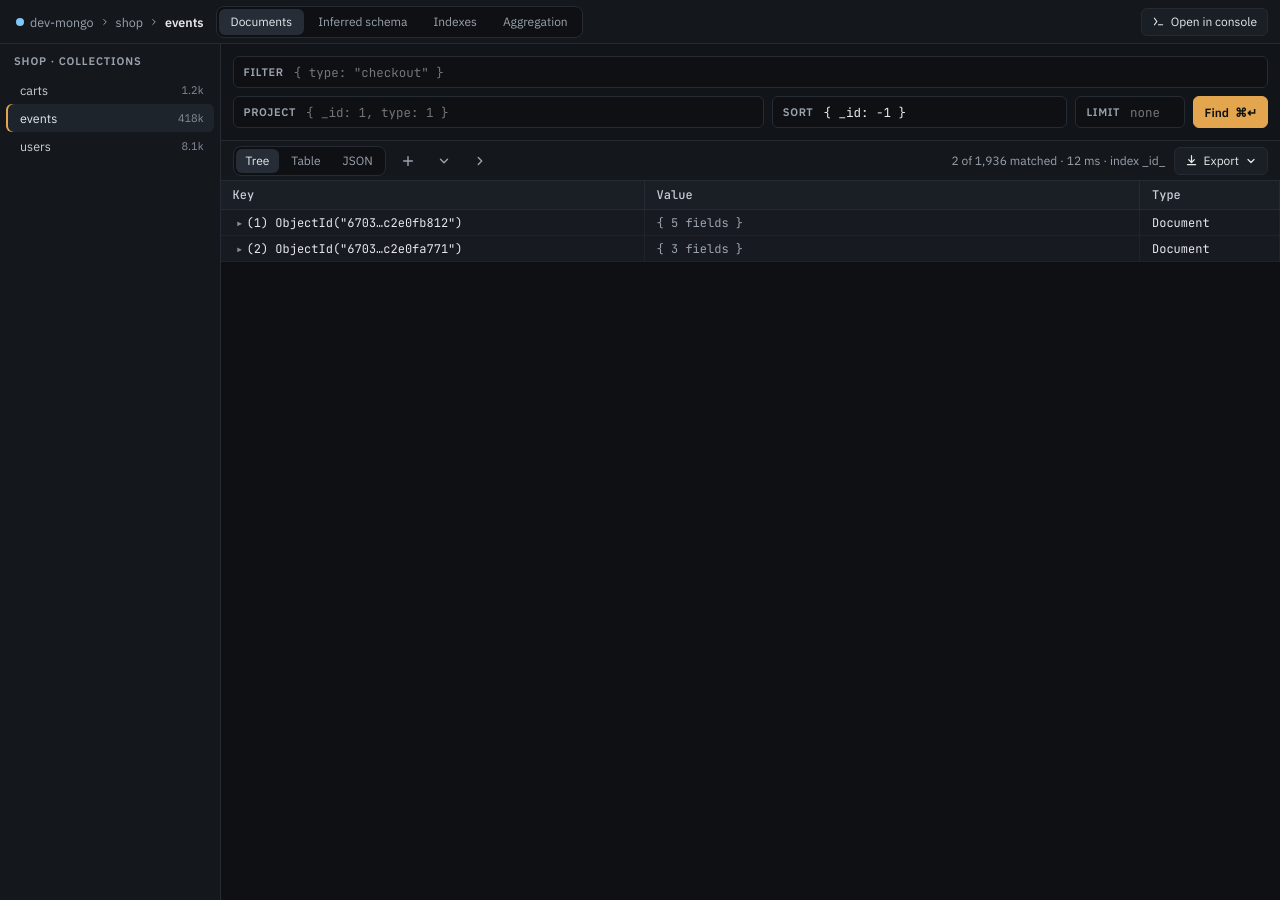
it: editing › stages an edit, marks it, and saves it with a version check
This screenshot has width=1280, height=900.
Press ArrowRight in the text "▸ (1) ObjectId(\"6703…c2e0fb812\") { 5 fields } Document", box [220, 210, 1279, 236]
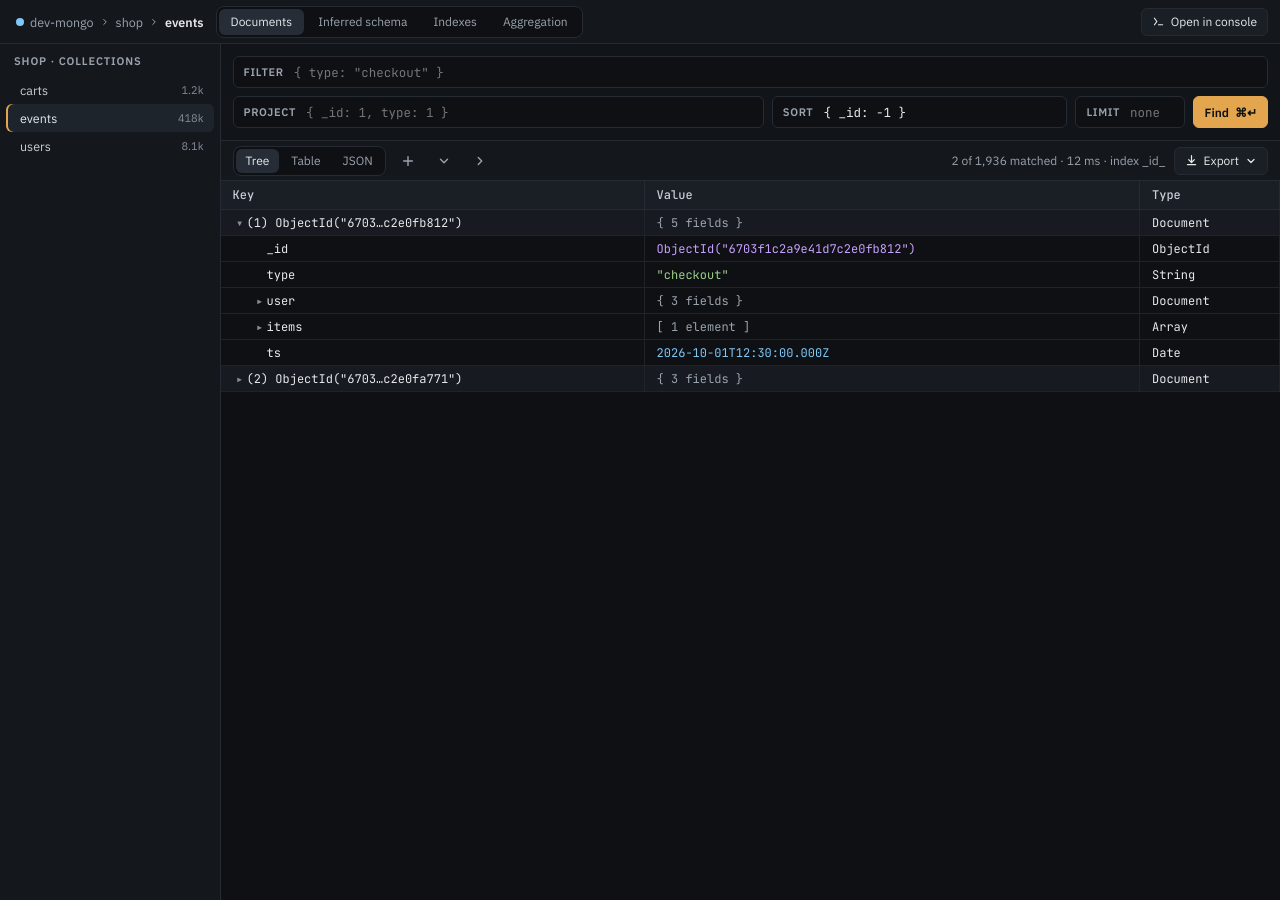
Double-click the text "\"checkout\"" at point(750, 274), box [220, 262, 1279, 288]
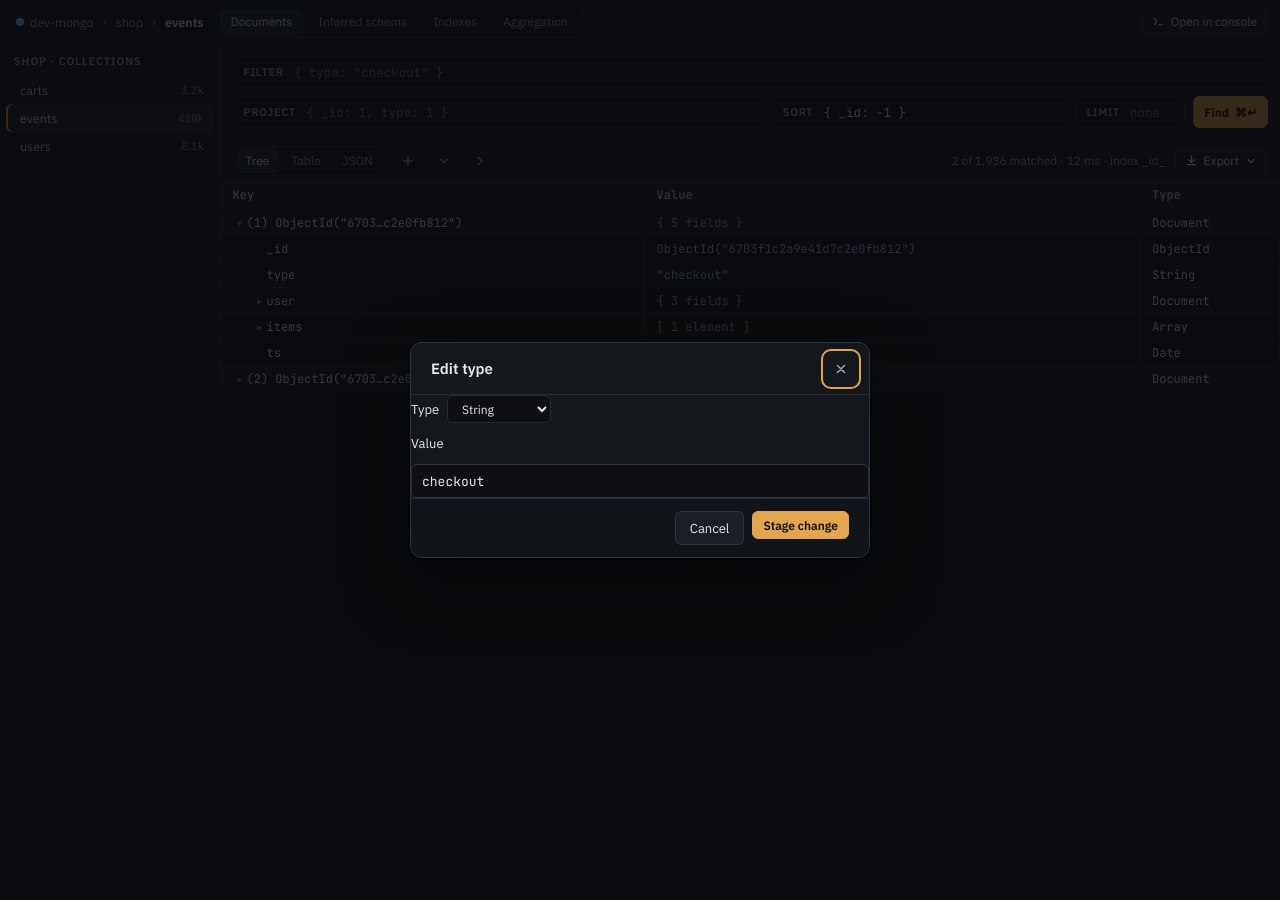
Replace the text in the field labelled "Value" with "refund" at point(640, 481), box [411, 464, 869, 498]
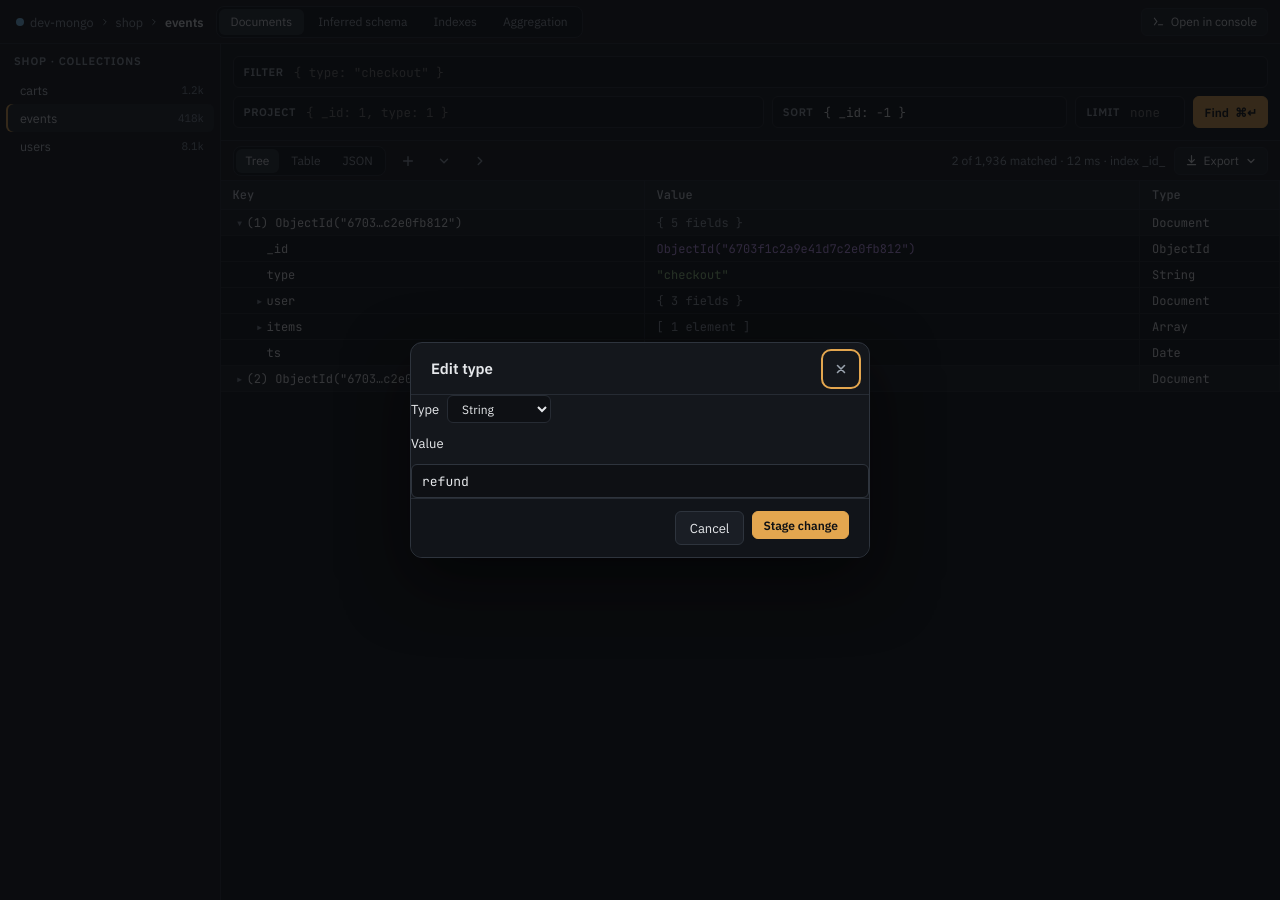
Click the button "Stage change" at point(801, 525), box [752, 511, 849, 539]
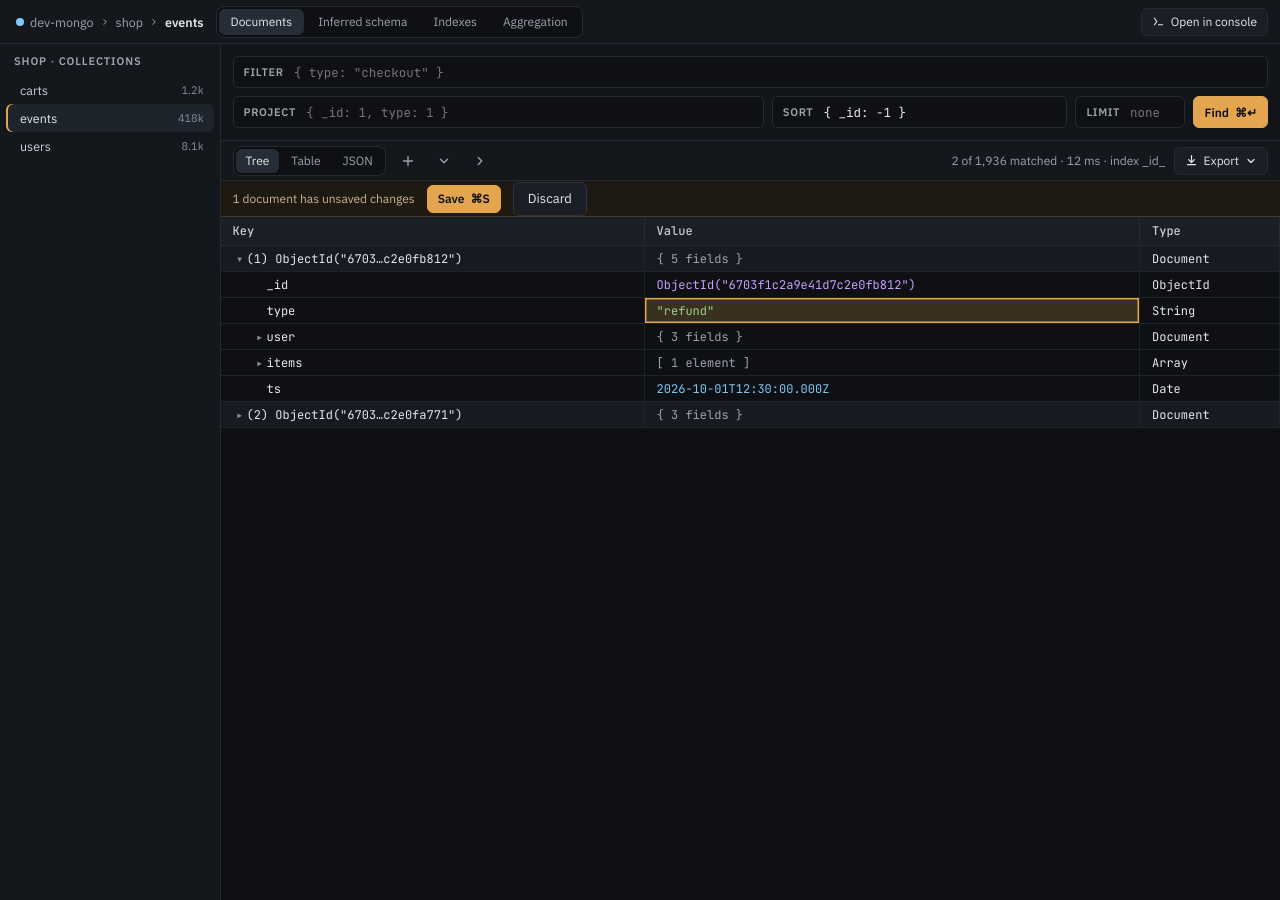
Now the text "\"refund\"" is shown, box [657, 302, 714, 318]
Now the message shows "1 document has unsaved changes", box [220, 181, 1279, 217]
Click the button "Save ⌘S" at point(464, 198), box [427, 184, 501, 212]
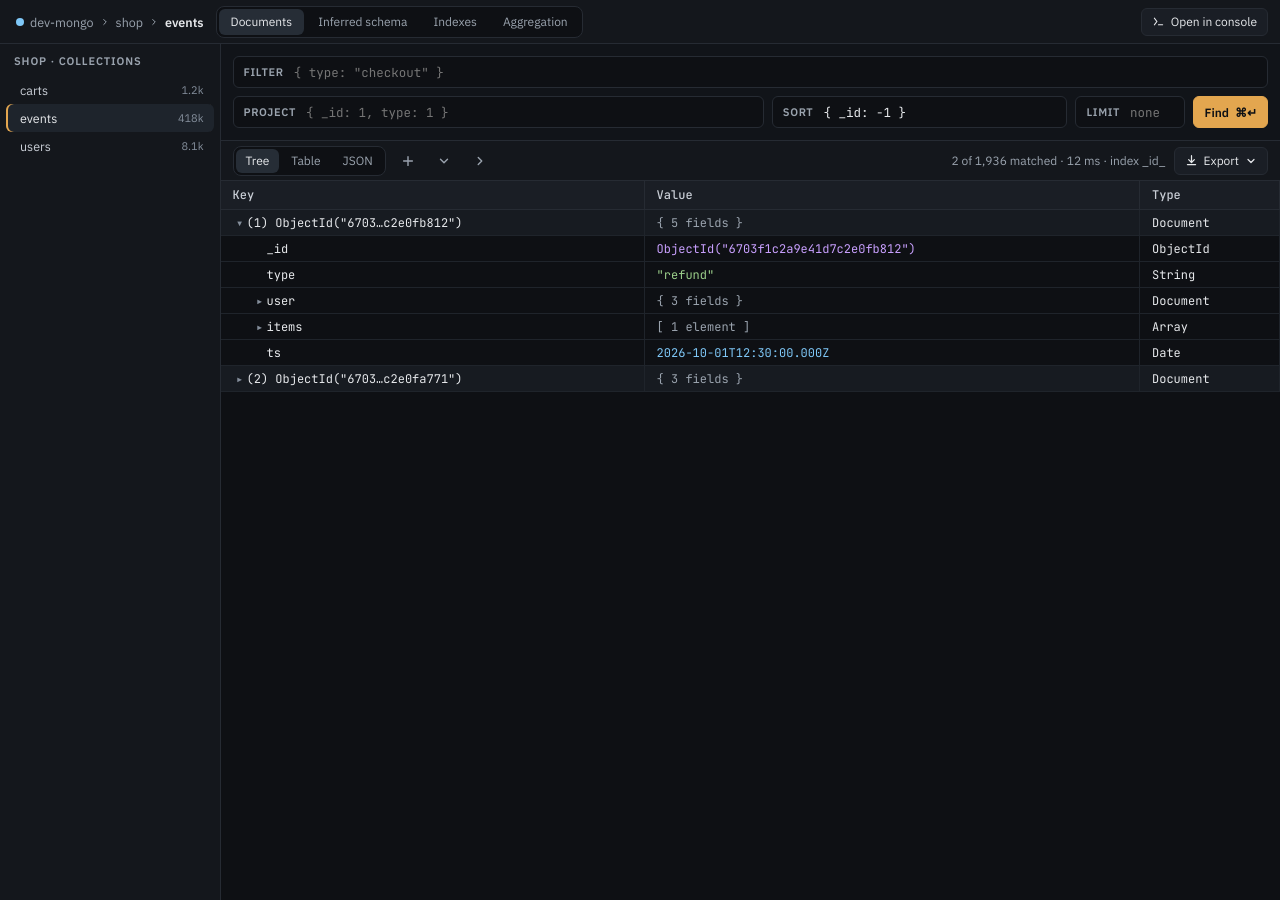
Now the text "\"refund\"" is shown, box [657, 266, 714, 282]
Now the message "1 document has unsaved changes Save ⌘S Discard" is gone
